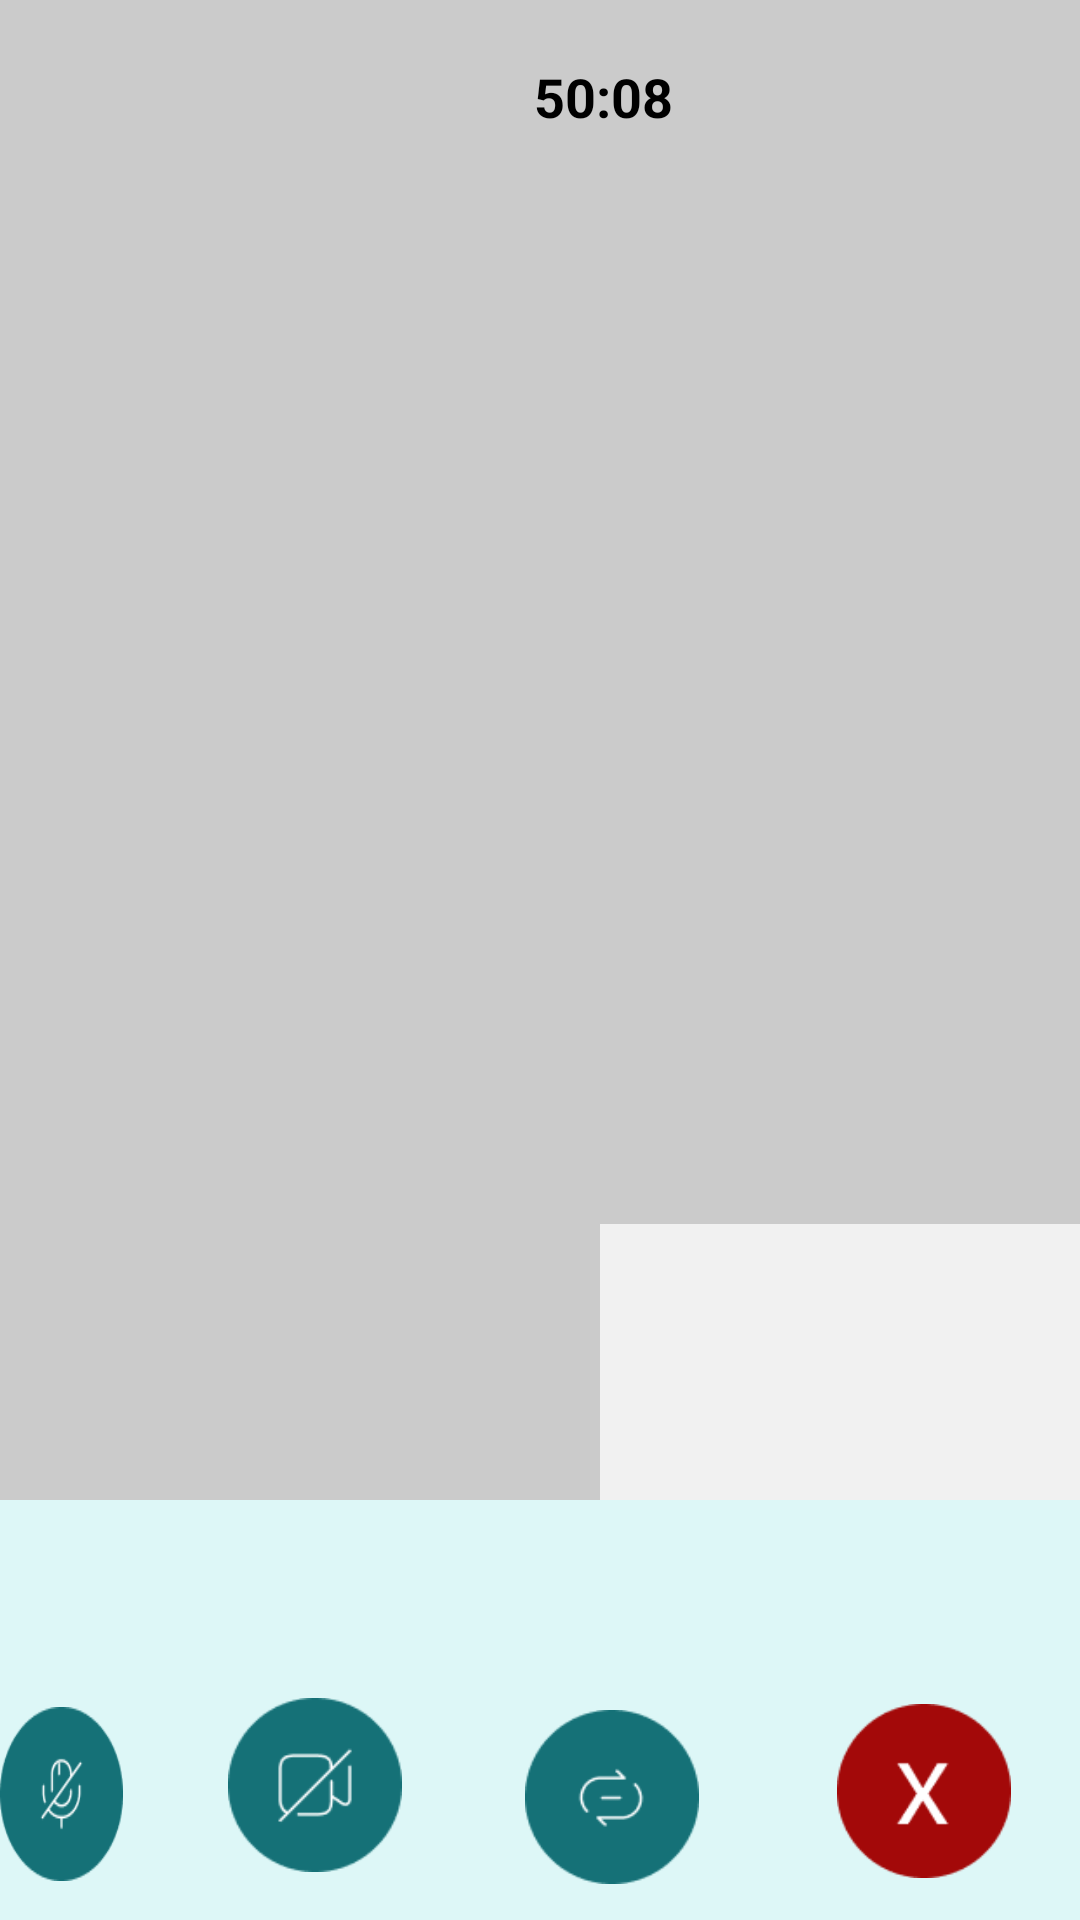

Point at icon controls on the screen. Image size 1080px×1920px, points as (x=x, y=y).
cancel: (x=924, y=1791)
closedcam: (x=315, y=1785)
closedmic: (x=61, y=1794)
